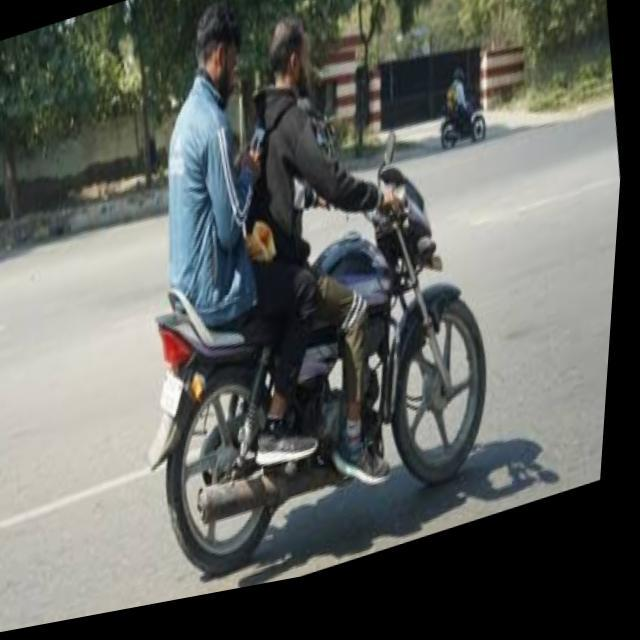Nonhelmet: (182, 0, 248, 95), (260, 7, 323, 95)
